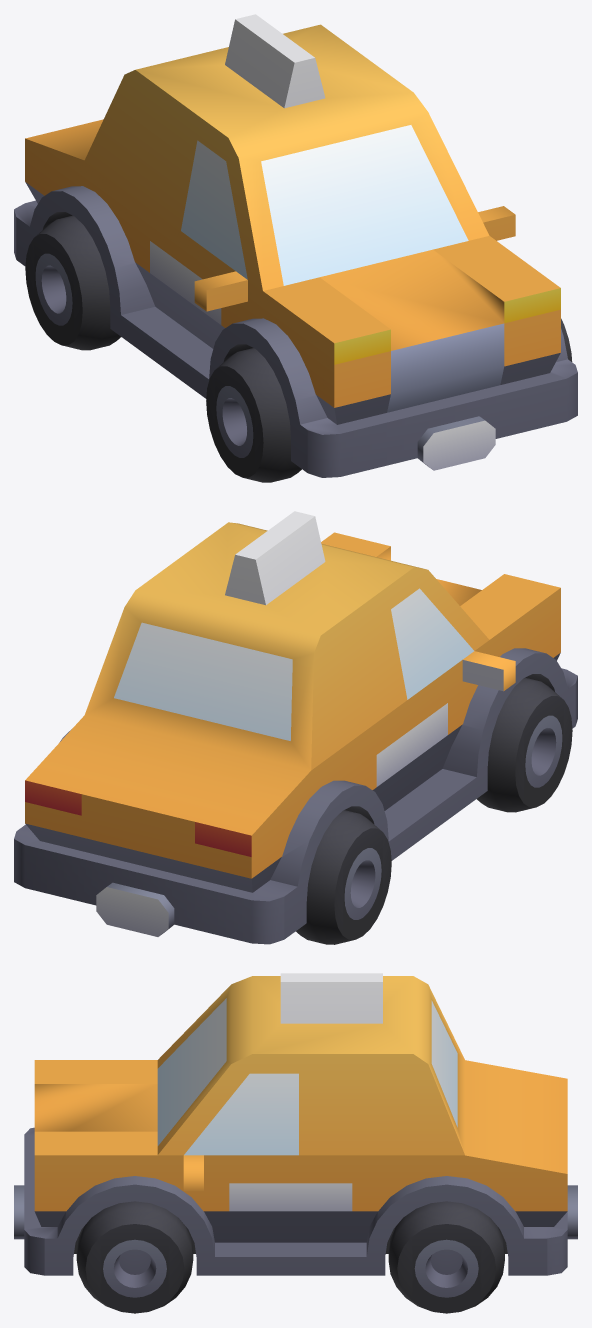
File: car_taxi.glb
The picture shows the model from 3 angles, top to bottom: view 1: azimuth 30°, elevation 25°; view 2: azimuth 150°, elevation 25°; view 3: azimuth 270°, elevation 25°; orthographic projection. The views are drawn at different scales.
Visible parts, largest first — view 1: body, wheel_rl_mesh, wheel_fl_mesh; view 2: body, wheel_rl_mesh, wheel_fl_mesh; view 3: body, wheel_fr_mesh, wheel_rr_mesh.
Part boxes in pixels (box(x1,y1,x2,y2)): body: box(14, 14, 577, 477); wheel_rl_mesh: box(25, 215, 120, 350); wheel_fl_mesh: box(206, 348, 301, 482); body: box(14, 511, 577, 944); wheel_rl_mesh: box(296, 810, 391, 944); wheel_fl_mesh: box(477, 677, 572, 812); body: box(14, 973, 577, 1275); wheel_fr_mesh: box(76, 1201, 193, 1313); wheel_rr_mesh: box(388, 1201, 504, 1313).
Size of the model in its own units: 1.77 by 1.77 by 3.24.
1 material, 1 textured.
